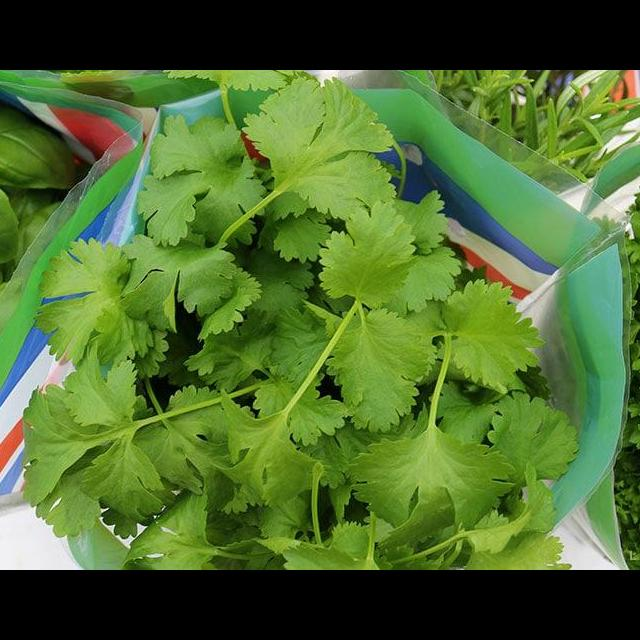cilantro: (19, 70, 581, 568), (0, 70, 80, 532), (407, 70, 640, 192)
